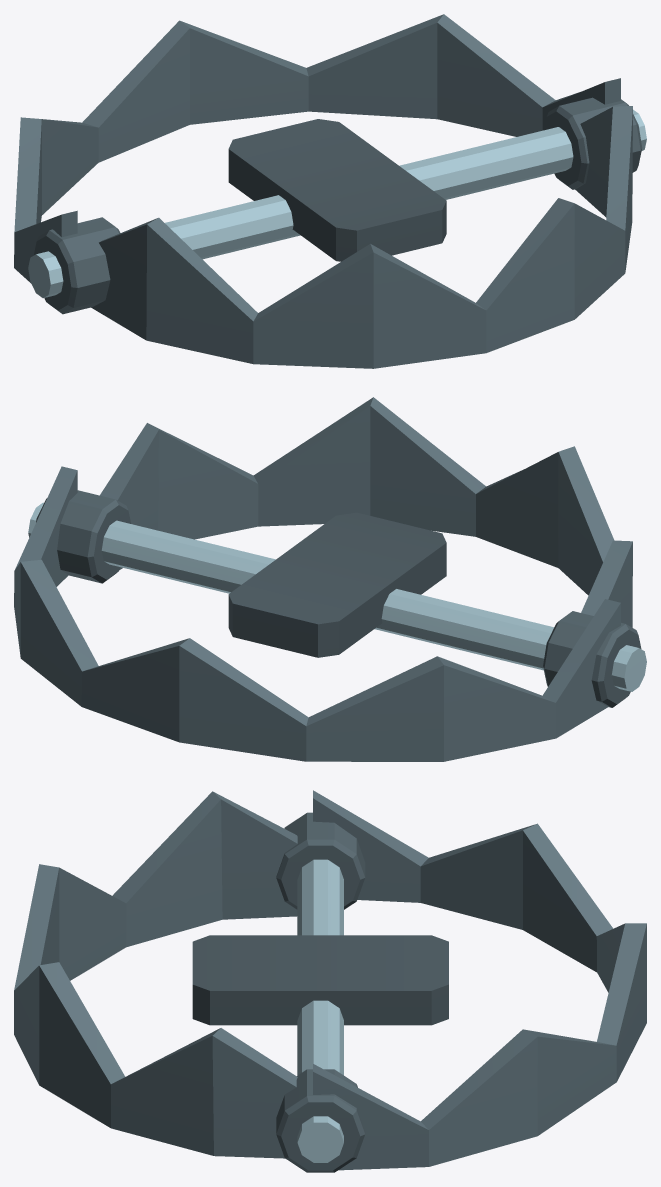
The model's file is Bear_Trap.fbx.
3 views of the same model, one above another, from view 1: azimuth 30°, elevation 25°; view 2: azimuth 150°, elevation 25°; view 3: azimuth 270°, elevation 25° (orthographic). The views are drawn at different scales.
Parts seen in each view (by area): view 1: Bear_Trap; view 2: Bear_Trap; view 3: Bear_Trap.
Boxes of the visible parts, left/top/right/bottom form: Bear_Trap: left=14, top=14, right=646, bottom=368; Bear_Trap: left=14, top=397, right=646, bottom=761; Bear_Trap: left=14, top=790, right=646, bottom=1172.
Bounding box in the file's own units: 70.78 × 13.35 × 63.12.
1 material, 1 textured.
